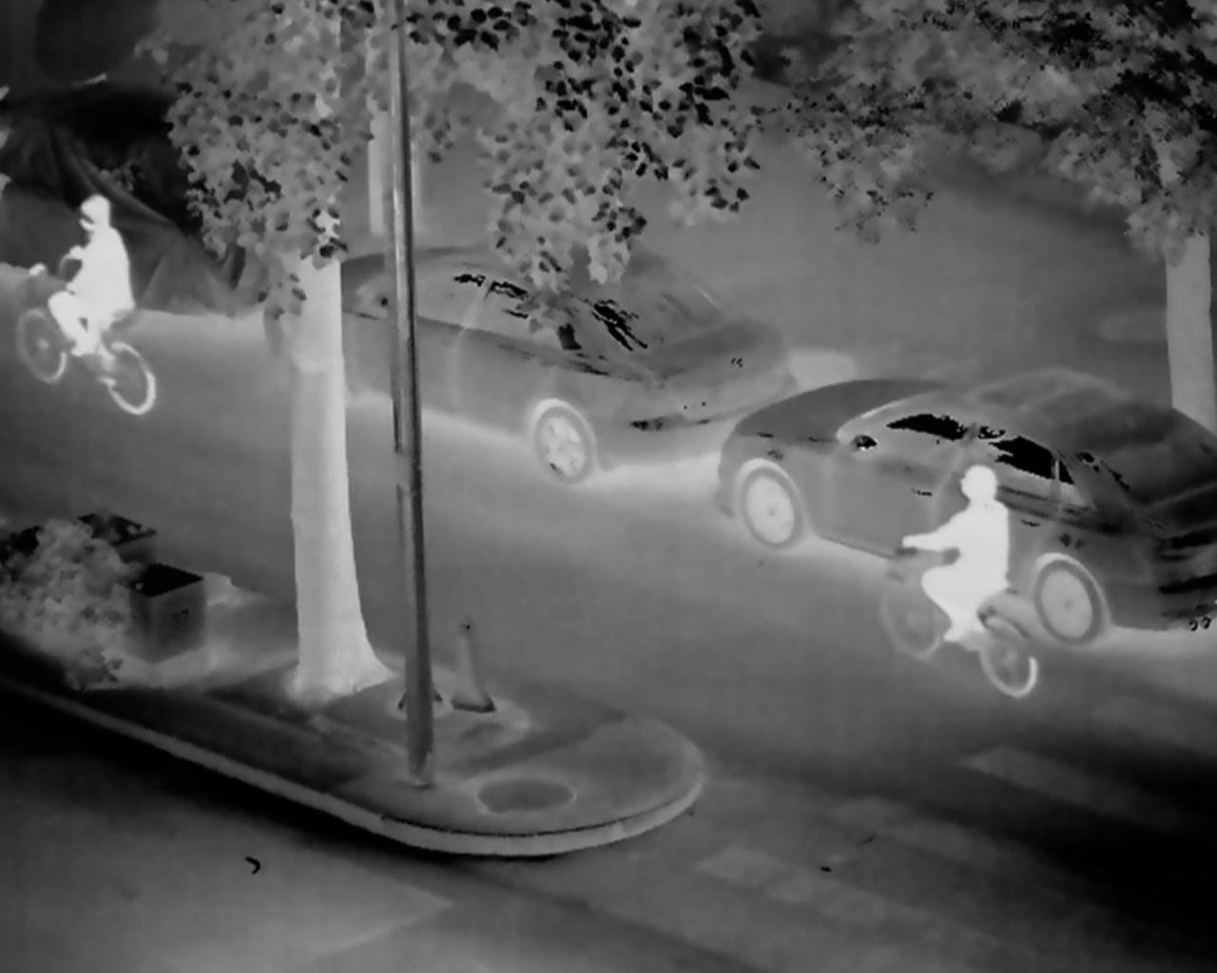person: (889, 443, 1023, 680), (29, 190, 151, 373)
